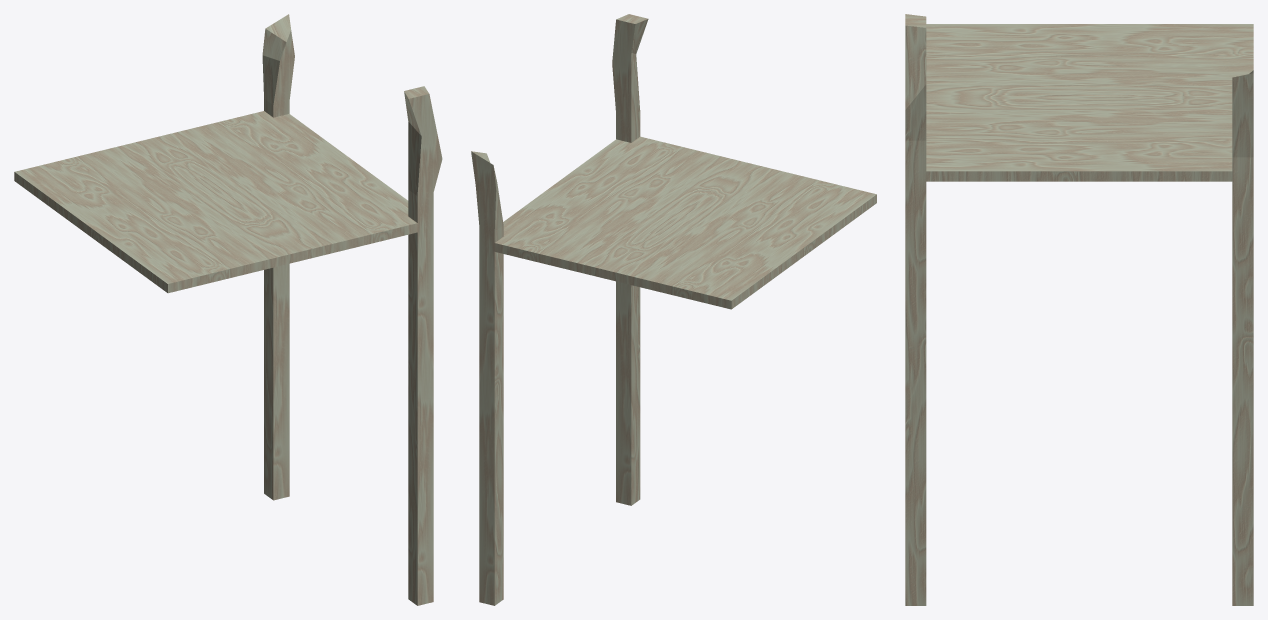
The picture shows the model from 3 angles, left to right: view 1: azimuth 30°, elevation 25°; view 2: azimuth 150°, elevation 25°; view 3: azimuth 270°, elevation 25°; orthographic projection. The views are drawn at different scales.
Parts seen in each view (by area): view 1: brid022_woodsemwhite_0; view 2: brid022_woodsemwhite_0; view 3: brid022_woodsemwhite_0.
Part boxes in pixels (<box>): brid022_woodsemwhite_0: <box>14,14,442,605</box>; brid022_woodsemwhite_0: <box>471,14,876,605</box>; brid022_woodsemwhite_0: <box>905,14,1253,605</box>.
Bounding box in the file's own units: 3.1 × 5.49 × 3.
Materials: 1 (1 with a texture image).
